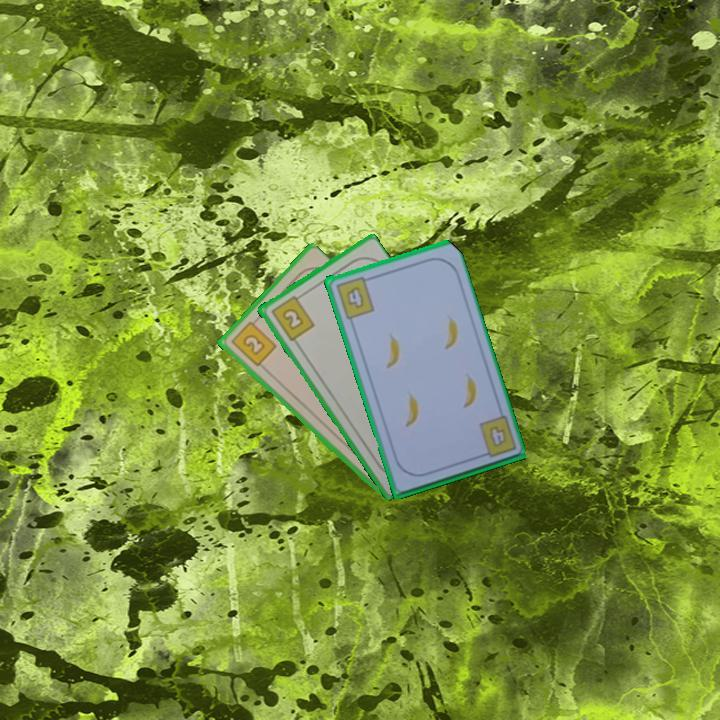2b: (227, 315, 279, 369), (267, 291, 317, 344)
4b: (332, 273, 377, 321), (486, 422, 509, 450)
